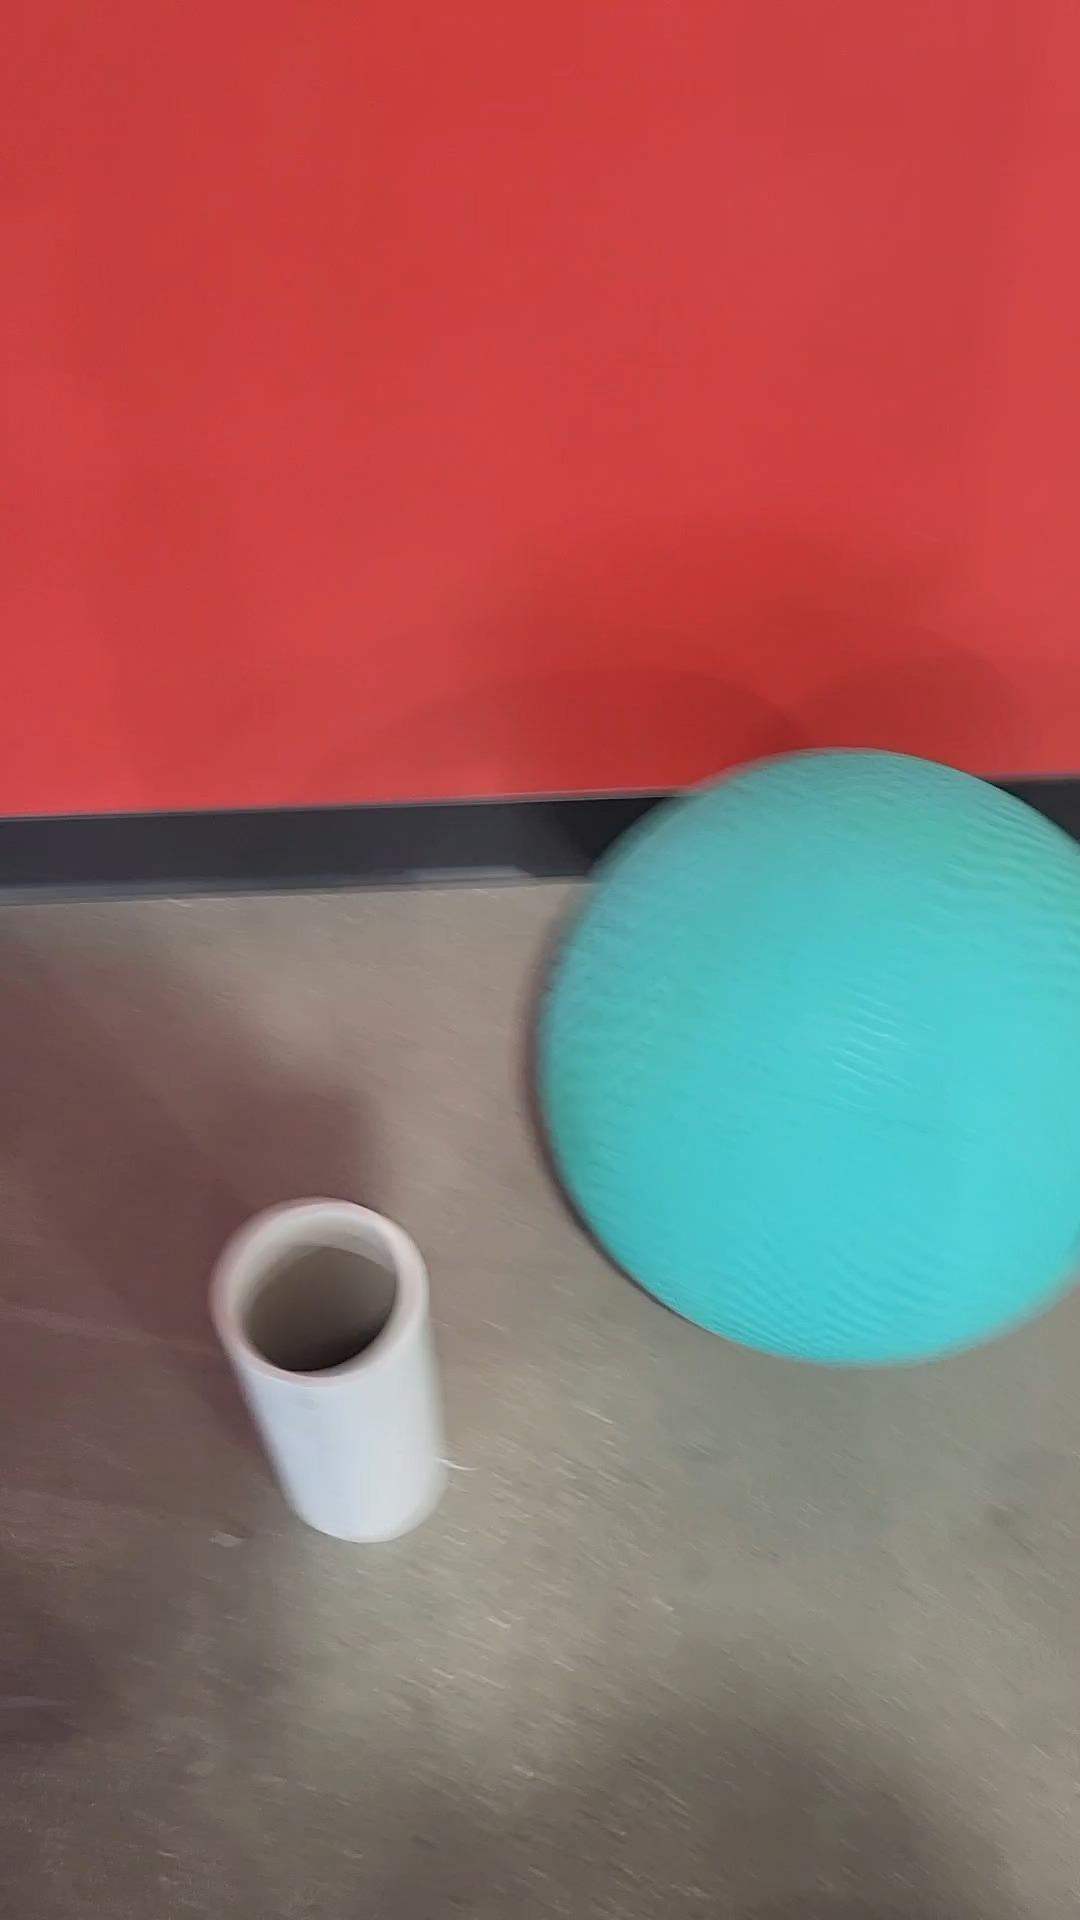algae: (524, 748, 1079, 1367)
coral: (206, 1196, 456, 1542)
